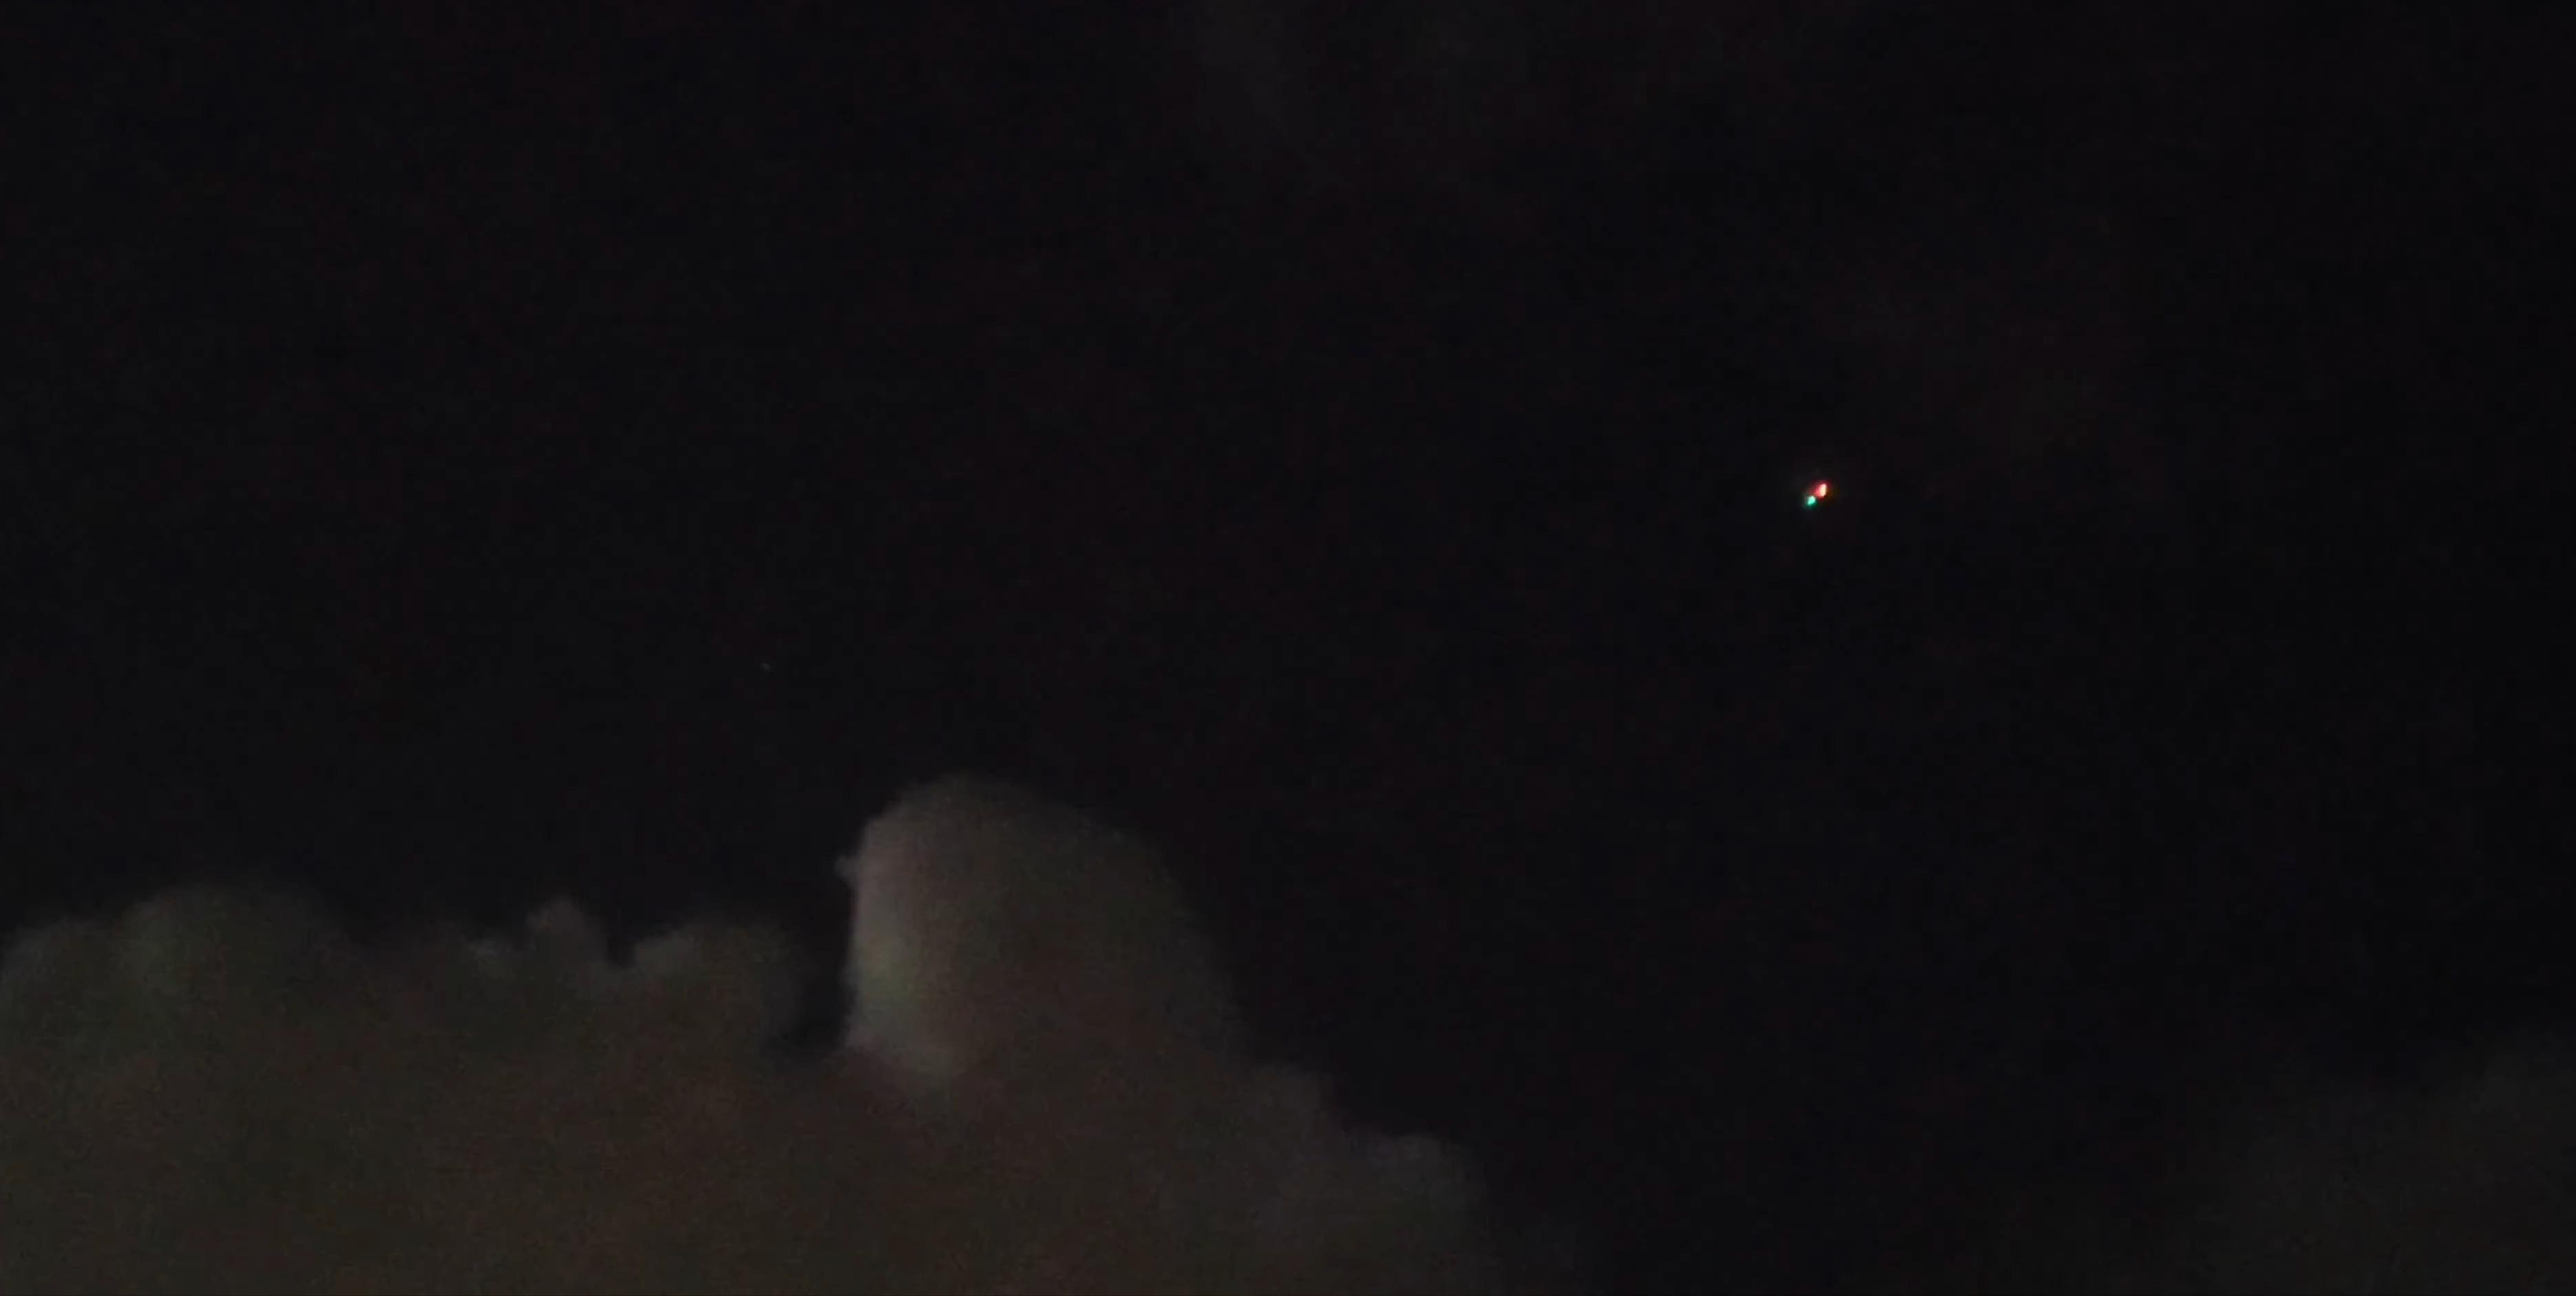Plane: (1794, 463, 1844, 524)
